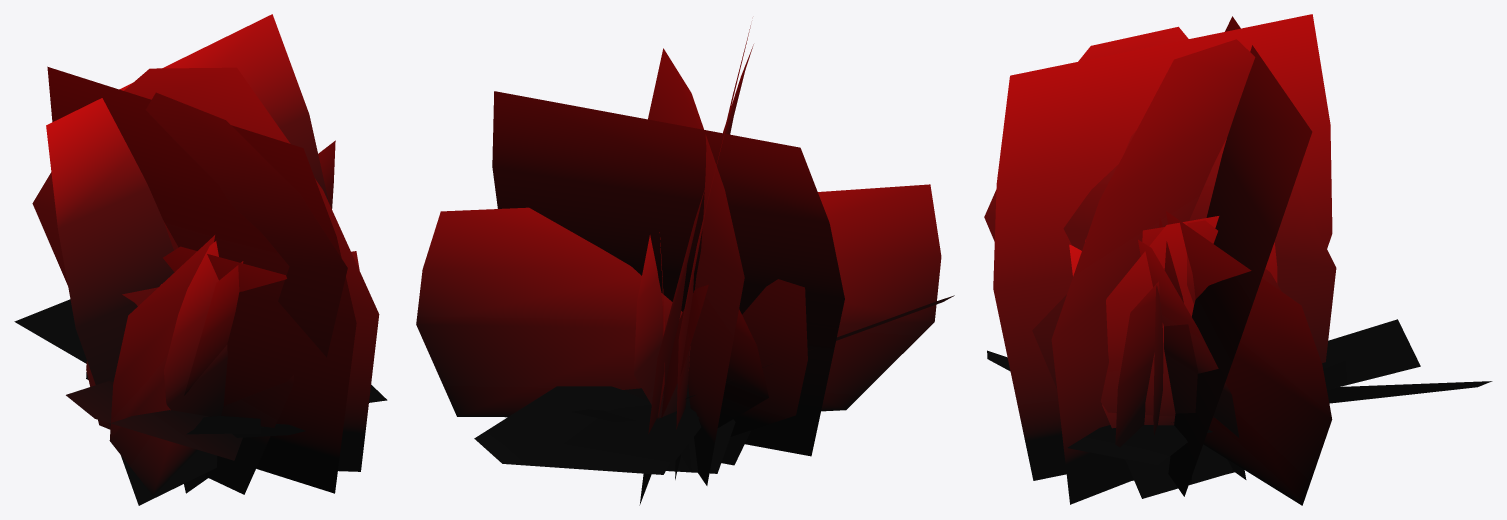
Rendered from Meadow_Grass_01_Var1.FBX.
3 views of the same model, side by side, from view 1: azimuth 30°, elevation 25°; view 2: azimuth 150°, elevation 25°; view 3: azimuth 270°, elevation 25° (orthographic). The views are drawn at different scales.
Parts seen in each view (by area): view 1: Meadow_Grass_01_Var1_LOD0; view 2: Meadow_Grass_01_Var1_LOD0; view 3: Meadow_Grass_01_Var1_LOD0.
Part boxes in pixels (x1,y1,x2,y2): Meadow_Grass_01_Var1_LOD0: (14, 14, 387, 505); Meadow_Grass_01_Var1_LOD0: (416, 25, 954, 505); Meadow_Grass_01_Var1_LOD0: (984, 14, 1492, 505).
Size of what is drawn, in the model's own units: 30.51 by 30.02 by 32.49.
